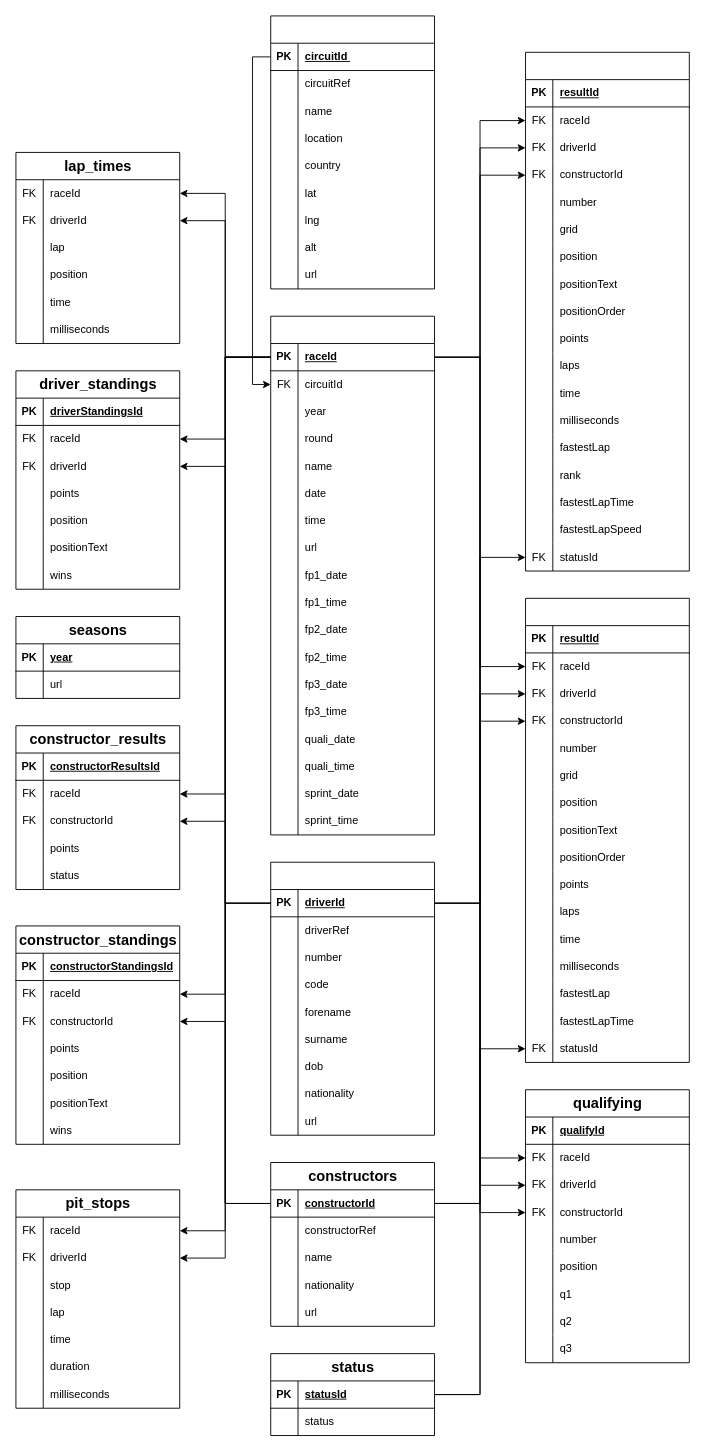
This 705x1451 diagram has some shape labels left out. The shapes that lost their labels are listed below. From the top down, each one's box as (x1, y1, x2, y2) in pixels, then its label:
(270, 15, 435, 289): circuits
(525, 51, 689, 571): results
(270, 315, 435, 835): races
(525, 597, 689, 1062): sprint_results
(270, 861, 435, 1135): drivers
